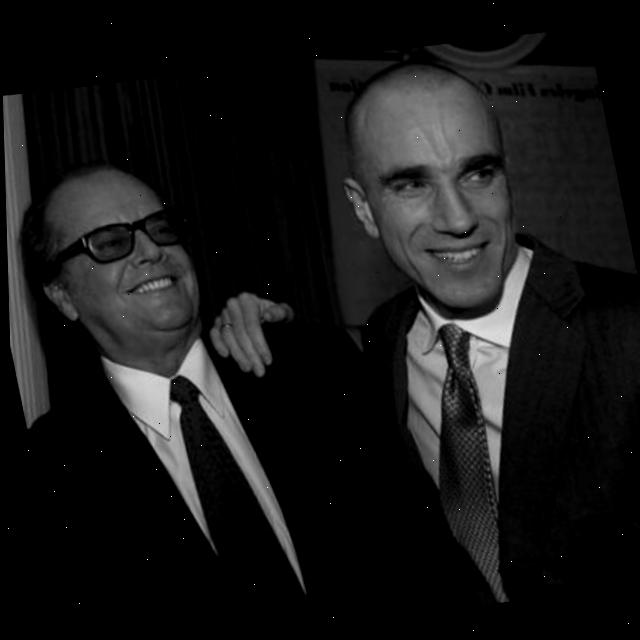face: (337, 67, 540, 313), (21, 151, 212, 361)
